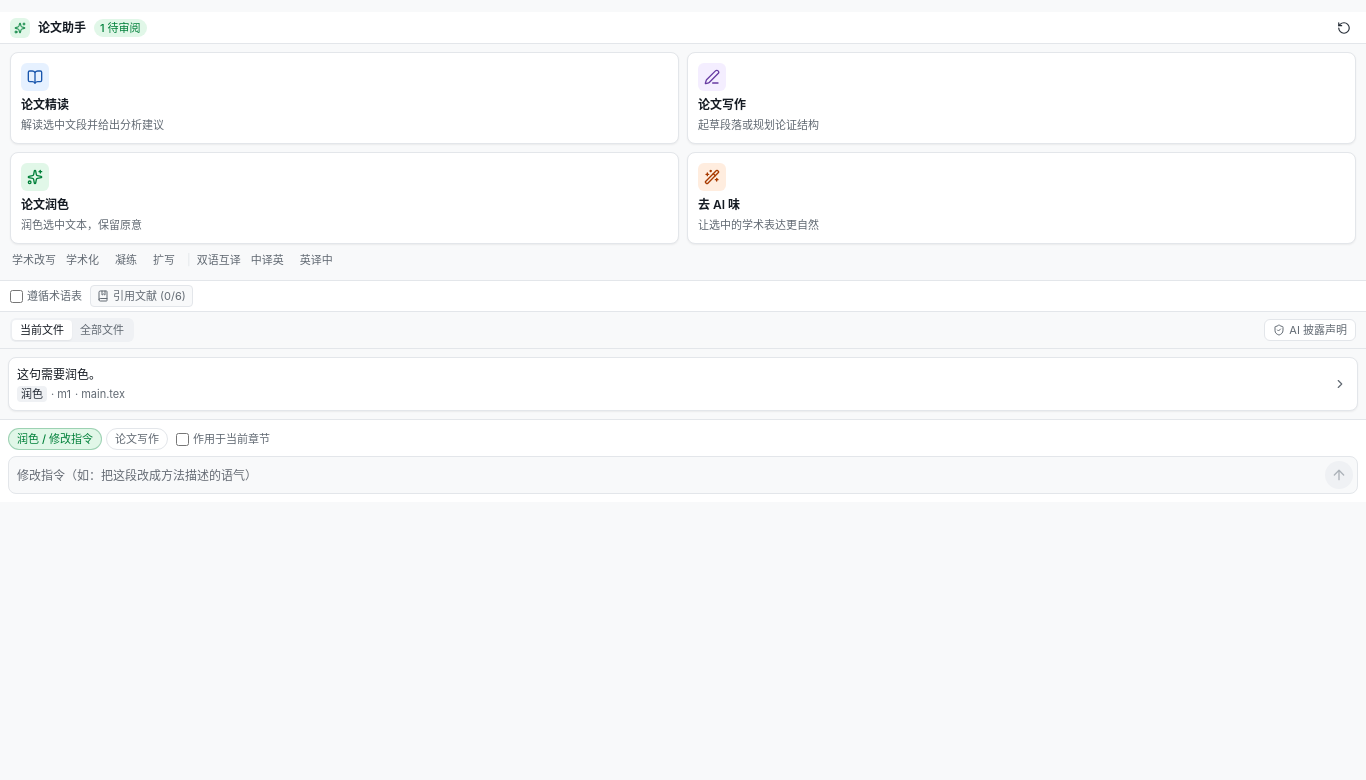
Scenario: ProposalPanel › 待审阅卡：展示 diff、采纳走编辑器事务回调 + 状态上报
Later steps or results of the test are not shown.
Expected: the list item with test id "proposal-pp_aaaaaaaaaaaa" shows "这句需要润色。", [17, 366, 1325, 402]
Click the button named "展开差异": x=1340, y=384 [1331, 375, 1349, 393]
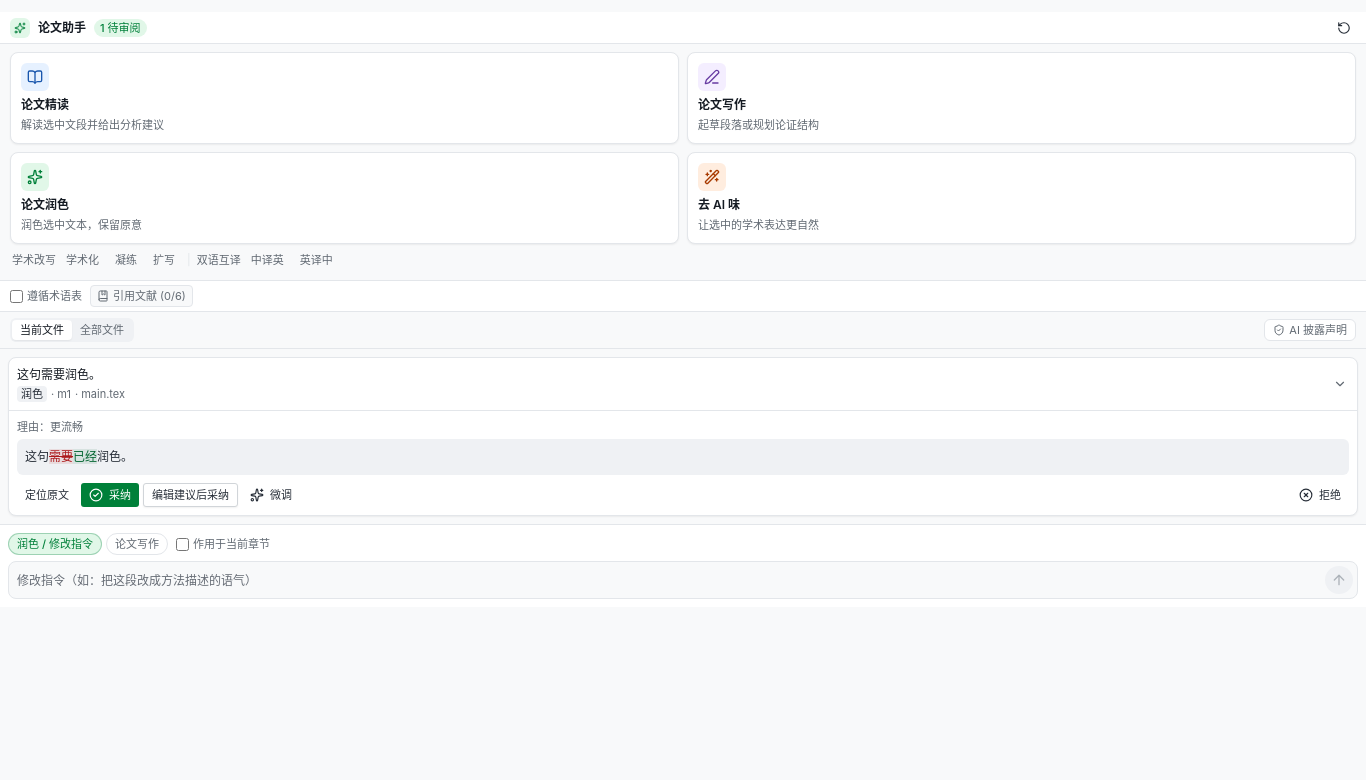
Expected: the element with test id "proposal-diff-pp_aaaaaaaaaaaa" shows "这句", [25, 449, 49, 464]
Expected: the element with test id "proposal-diff-pp_aaaaaaaaaaaa" shows "已经润色", [17, 439, 1349, 475]
